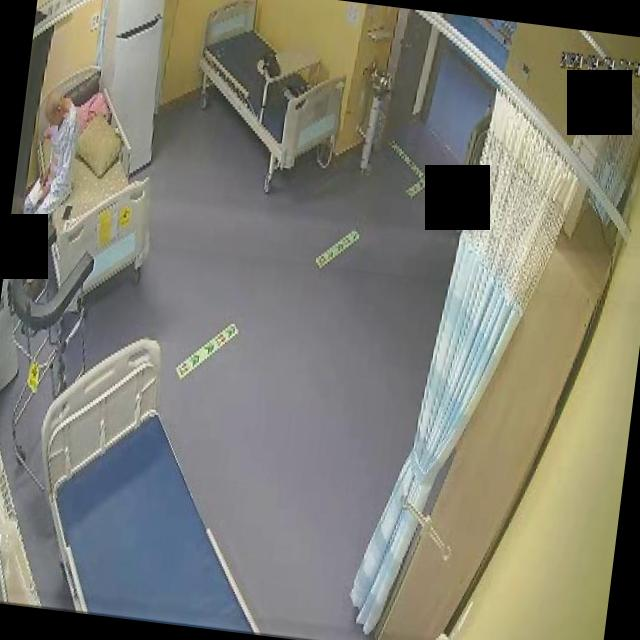bed: (20, 326, 293, 632), (15, 60, 172, 304), (186, 0, 355, 175)
patient: (19, 80, 86, 255)
sit: (20, 81, 85, 260)
